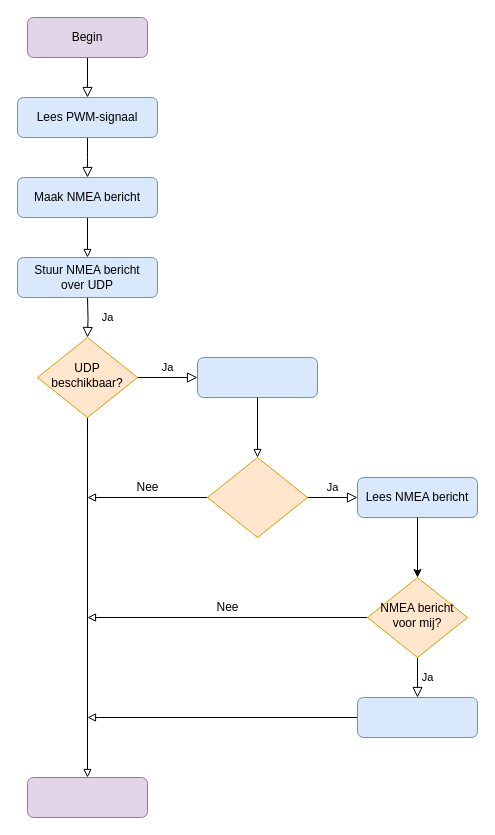
Some shapes in this 495 by 835 pixel diagram are drawn without their labels. Each missing label, with the centre of its shape:
"Bericht NMEA kloppend?" belongs at (x=257, y=497).
"Lees UDP" belongs at (x=257, y=377).
"Terug naar begin" belongs at (x=87, y=797).
"Verwerk opdracht uit bericht" belongs at (x=417, y=717).
